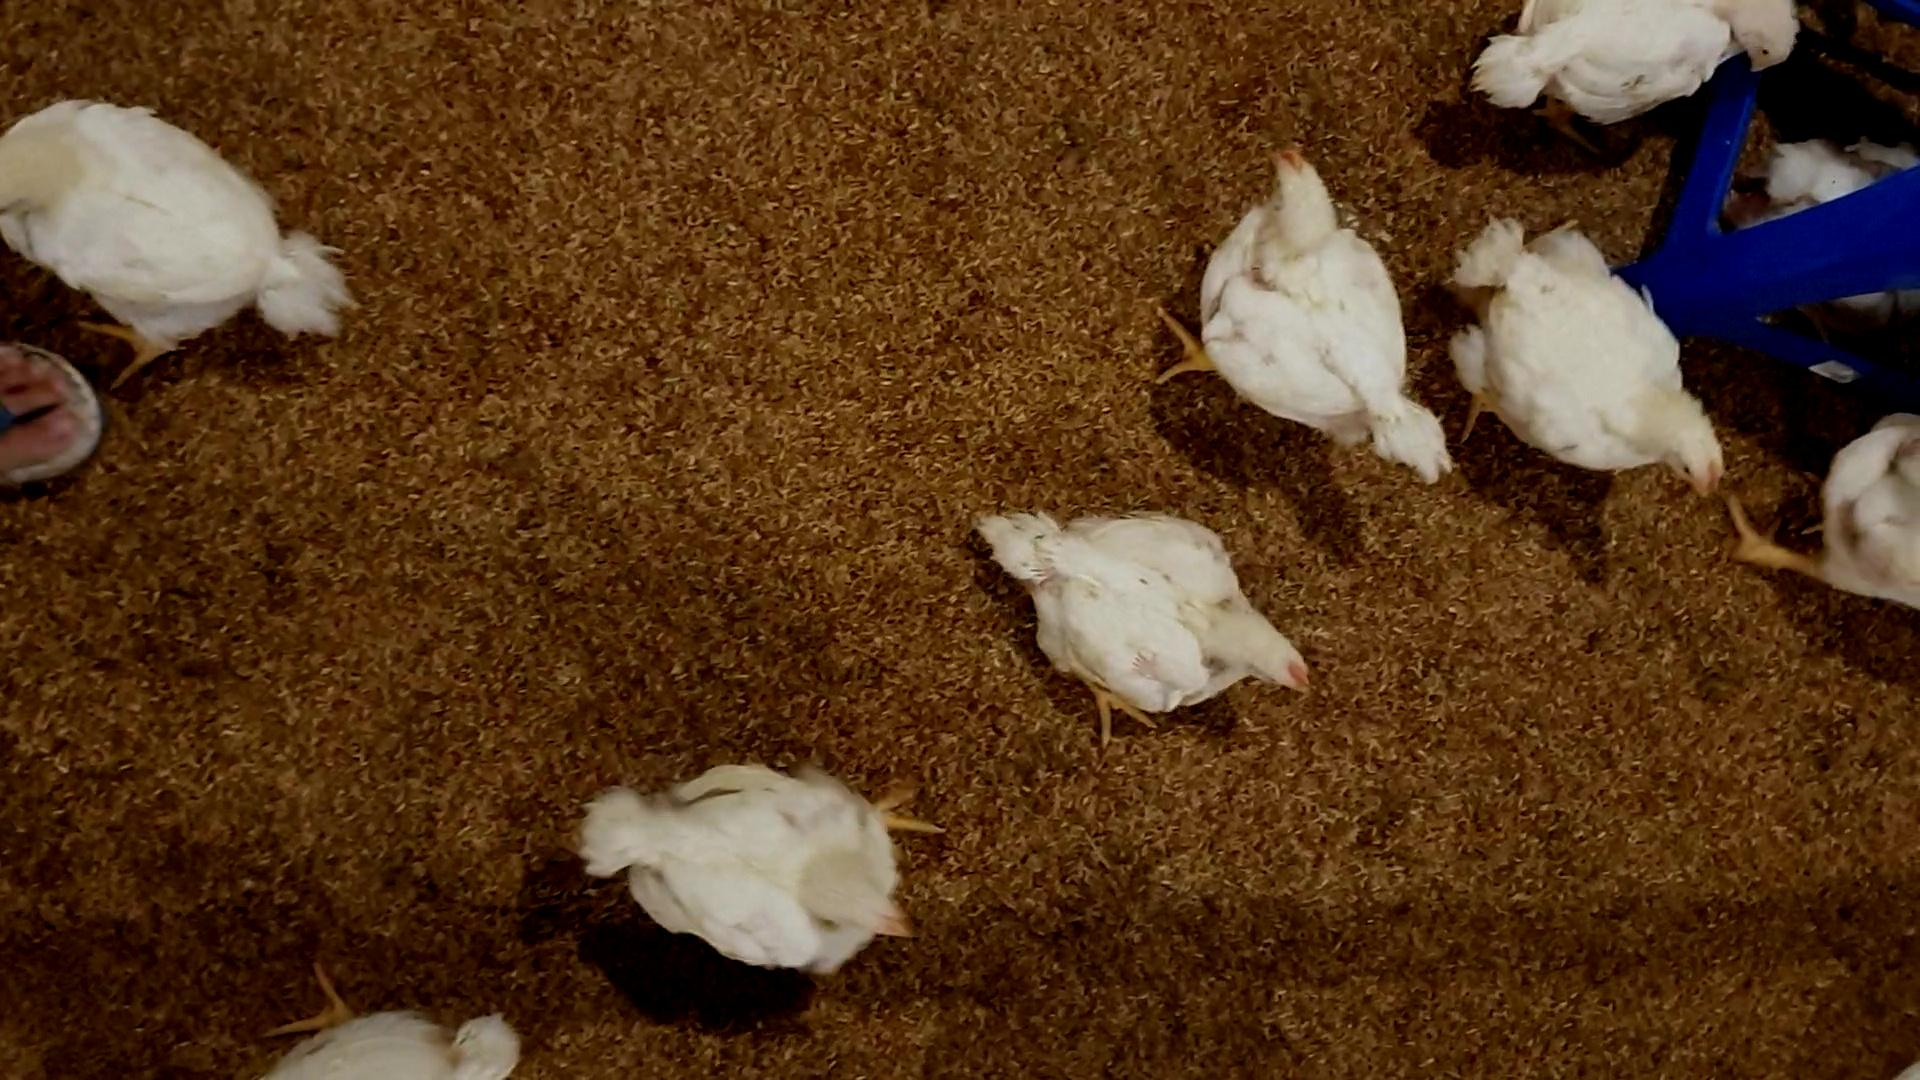Pollos: (1, 90, 342, 382), (582, 756, 942, 984), (1460, 204, 1727, 495), (1201, 138, 1437, 464), (980, 492, 1317, 719)
